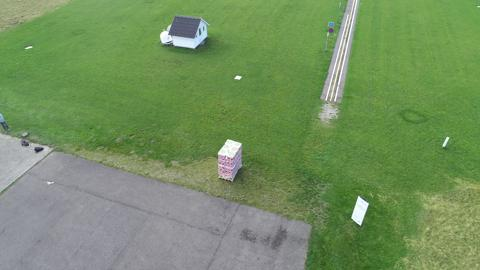RockwoolPallet: (217, 139, 243, 183)
